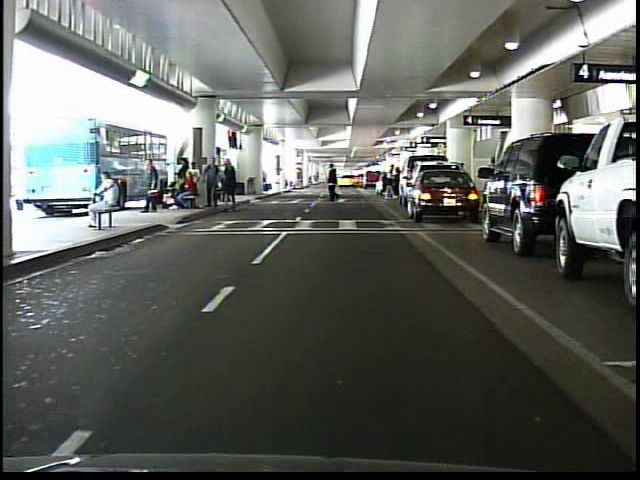person: (75, 165, 122, 234), (136, 153, 162, 217), (324, 162, 346, 207), (381, 161, 397, 198)
